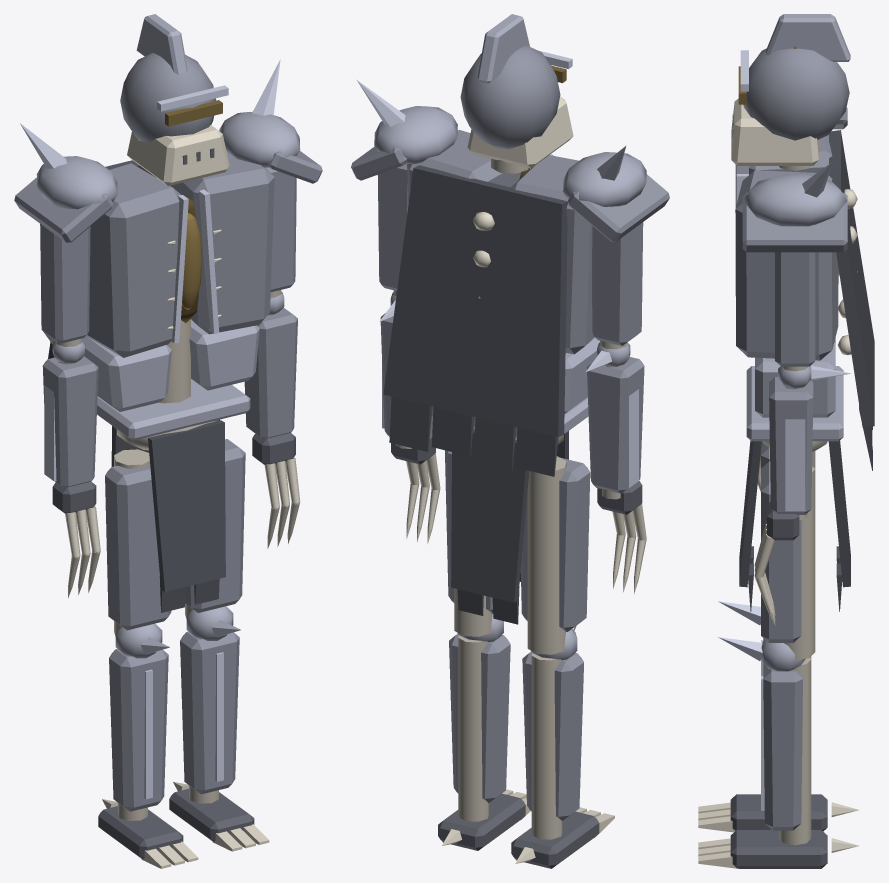
Rendered from revenant.glb.
3 views of the same model, side by side, from view 1: azimuth 30°, elevation 25°; view 2: azimuth 150°, elevation 25°; view 3: azimuth 270°, elevation 25° (orthographic). The views are drawn at different scales.
Parts seen in each view (by area): view 1: revenant*1.006, revenant*0.45, revenant*1.005, revenant*1.002, revenant*1.001, revenant*1.003, revenant*1.013, revenant*1.011, revenant*1.012, revenant*1.009, revenant*2.002, revenant*2.004 (+27 smaller); view 2: revenant*0.008, revenant*0.004, revenant*1.009, bone*0.005, revenant*1.013, revenant*1.001, revenant*1.002, revenant*1.003, revenant*1.012, revenant*1.006, bone*0.006, bone*0.001 (+22 smaller); view 3: revenant*1.009, revenant*1.005, revenant*1.001, revenant*0.008, revenant*1.010, revenant*1.4, revenant*1.011, revenant*2.005, revenant*1.007, bone*0.028, revenant*0.6, revenant*2.007 (+20 smaller).
Boxes of the visible parts, x1=… form: revenant*1.006: x1=86, y1=163, x2=181, y2=357; revenant*0.45: x1=148, y1=420, x2=225, y2=591; revenant*1.005: x1=170, y1=151, x2=274, y2=334; revenant*1.002: x1=105, y1=464, x2=171, y2=630; revenant*1.001: x1=180, y1=631, x2=239, y2=794; revenant*1.003: x1=109, y1=649, x2=168, y2=811; revenant*1.013: x1=42, y1=356, x2=98, y2=487; revenant*1.011: x1=244, y1=307, x2=297, y2=439; revenant*1.012: x1=40, y1=224, x2=90, y2=343; revenant*1.009: x1=120, y1=53, x2=216, y2=142; revenant*2.002: x1=97, y1=379, x2=250, y2=440; revenant*2.004: x1=82, y1=336, x2=171, y2=411; revenant*0.008: x1=383, y1=165, x2=567, y2=437; revenant*0.004: x1=451, y1=429, x2=529, y2=602; revenant*1.009: x1=460, y1=45, x2=560, y2=149; bone*0.005: x1=527, y1=456, x2=566, y2=654; revenant*1.013: x1=586, y1=357, x2=644, y2=493; revenant*1.001: x1=449, y1=634, x2=510, y2=803; revenant*1.002: x1=520, y1=457, x2=590, y2=631; revenant*1.003: x1=522, y1=652, x2=583, y2=820; revenant*1.012: x1=592, y1=222, x2=643, y2=345; revenant*1.006: x1=511, y1=155, x2=594, y2=354; bone*0.006: x1=531, y1=653, x2=562, y2=839; bone*0.001: x1=458, y1=635, x2=489, y2=821; revenant*1.009: x1=743, y1=48, x2=849, y2=140; revenant*1.005: x1=735, y1=170, x2=838, y2=360; revenant*1.001: x1=763, y1=663, x2=802, y2=830; revenant*0.008: x1=829, y1=130, x2=874, y2=427; revenant*1.010: x1=775, y1=252, x2=815, y2=366; revenant*1.4: x1=761, y1=461, x2=801, y2=642; revenant*1.011: x1=769, y1=377, x2=813, y2=514; revenant*2.005: x1=743, y1=174, x2=847, y2=226; revenant*1.007: x1=742, y1=192, x2=847, y2=252; bone*0.028: x1=731, y1=98, x2=818, y2=165; revenant*0.6: x1=730, y1=830, x2=827, y2=868; revenant*2.007: x1=765, y1=14, x2=850, y2=61.
Size of the model in its own units: 0.7736 by 2.26 by 0.4366.
